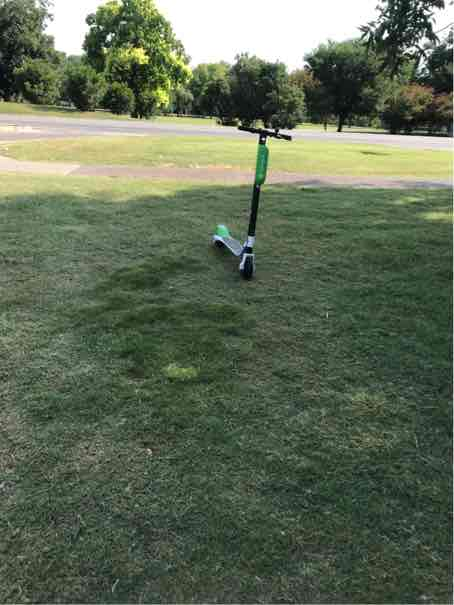scooter: (199, 127, 281, 285)
